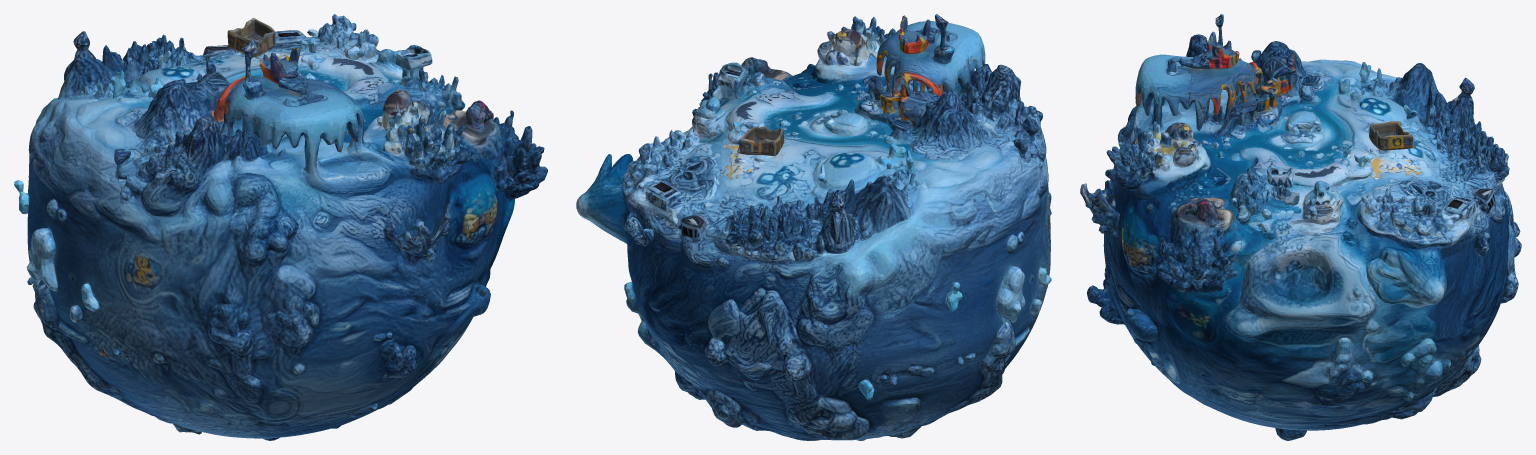
File: tripo_convert_6895aebe-7d4e-4964-9606-743e0ac53367.obj
3 views of the same model, side by side, from view 1: azimuth 30°, elevation 25°; view 2: azimuth 150°, elevation 25°; view 3: azimuth 270°, elevation 25° (orthographic). The views are drawn at different scales.
Visible parts, largest first — view 1: tripo_node_6895aebe-7d4e-4964-9606-743e0ac53367; view 2: tripo_node_6895aebe-7d4e-4964-9606-743e0ac53367; view 3: tripo_node_6895aebe-7d4e-4964-9606-743e0ac53367.
Boxes of the visible parts, box(x1,y1,x2,y2) form: tripo_node_6895aebe-7d4e-4964-9606-743e0ac53367: box(14, 14, 547, 440); tripo_node_6895aebe-7d4e-4964-9606-743e0ac53367: box(576, 14, 1051, 440); tripo_node_6895aebe-7d4e-4964-9606-743e0ac53367: box(1080, 14, 1521, 440).
Size of the model in its own units: 0.9972 by 0.9697 by 0.9997.
1 material, 1 textured.
